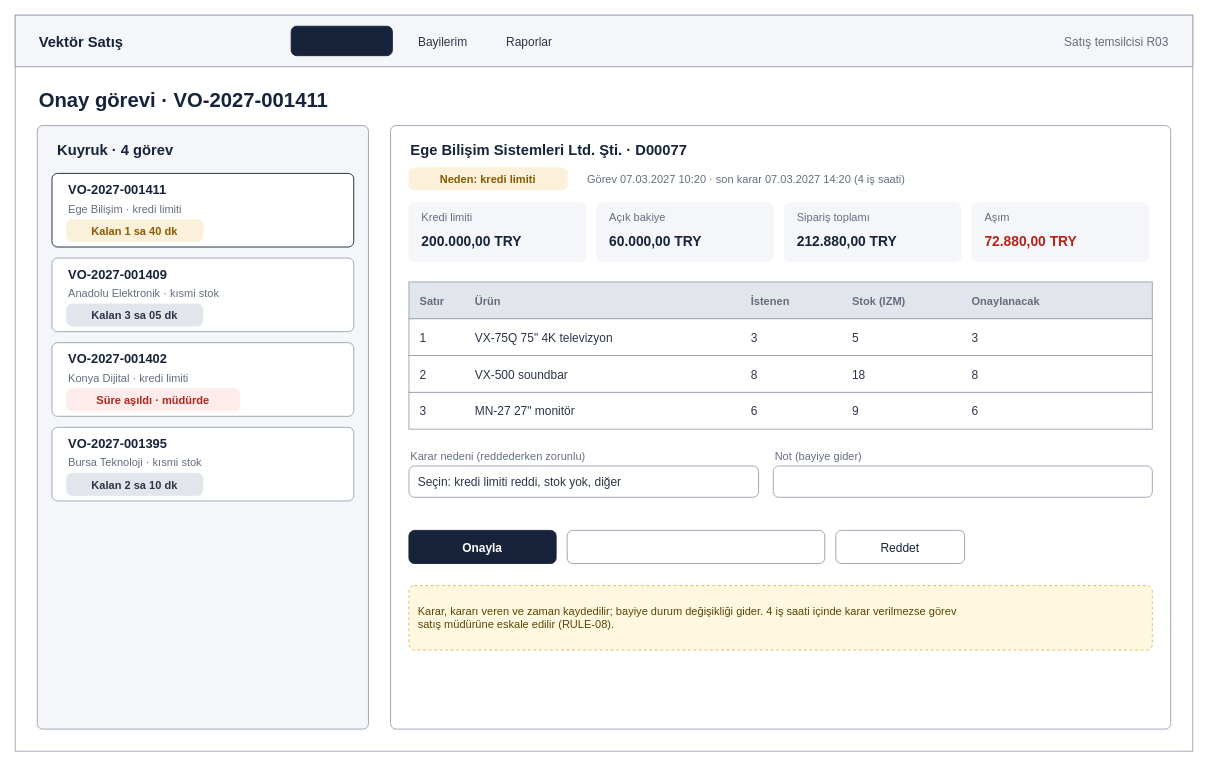
The diagram is 1208 pixels wide and 766 high, and some of its shapes have lost their labels. Each missing label, with the centre of its shape:
Miktarı azaltarak onayla: the point at 695,546
Onay kuyruğu: the point at 341,40
